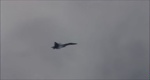maybay_muctieu: (50, 38, 79, 53)
